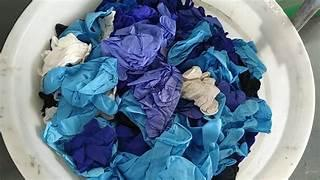Glove: (41, 33, 90, 75), (182, 66, 219, 114)
